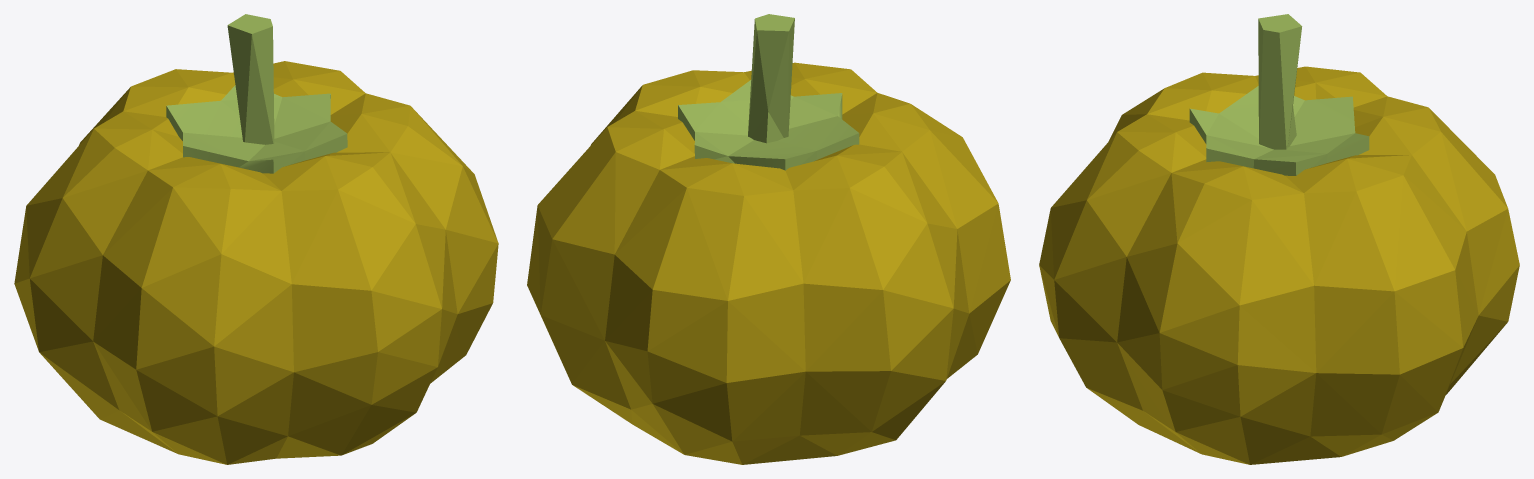
Rendered from Pumpkin_01.fbx.
3 renders of one model, left to right at view 1: azimuth 30°, elevation 25°; view 2: azimuth 150°, elevation 25°; view 3: azimuth 270°, elevation 25°, orthographic.
Parts seen in each view (by area): view 1: Pumpkin_01; view 2: Pumpkin_01; view 3: Pumpkin_01.
Boxes of the visible parts, x1=… form: Pumpkin_01: x1=14, y1=14, x2=498, y2=464; Pumpkin_01: x1=527, y1=14, x2=1010, y2=464; Pumpkin_01: x1=1039, y1=14, x2=1519, y2=464.
Bounding box in the file's own units: 30.98 × 28.3 × 31.5.
